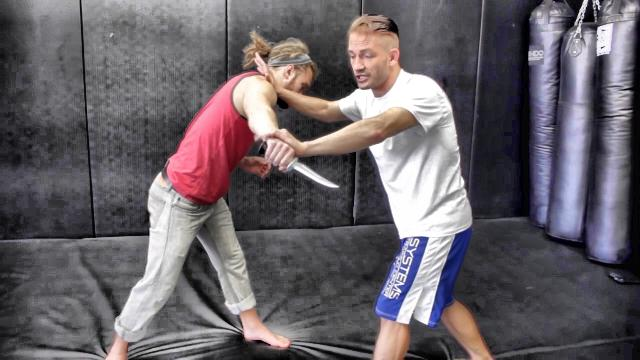knife: (254, 138, 342, 192)
